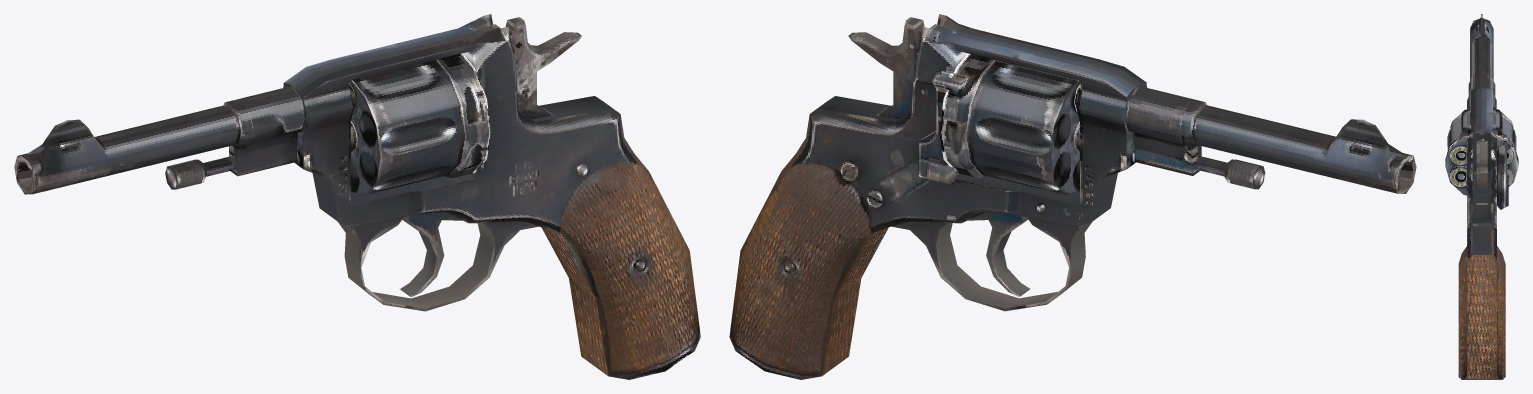
The model's file is nagant.glb.
The picture shows the model from 3 angles, left to right: view 1: azimuth 30°, elevation 25°; view 2: azimuth 150°, elevation 25°; view 3: azimuth 270°, elevation 25°; orthographic projection. The views are drawn at different scales.
Visible parts, largest first — view 1: w_nagant_01 - Default_0, slide_01 - Default_0, hammer_01 - Default_0; view 2: w_nagant_01 - Default_0, slide_01 - Default_0, hammer_01 - Default_0; view 3: w_nagant_01 - Default_0, slide_01 - Default_0, hammer_01 - Default_0.
Boxes of the visible parts, x1,y1,x2,y2 form: w_nagant_01 - Default_0: (14, 14, 700, 379); slide_01 - Default_0: (350, 53, 491, 194); hammer_01 - Default_0: (505, 17, 581, 119); w_nagant_01 - Default_0: (729, 14, 1416, 379); slide_01 - Default_0: (939, 53, 1079, 194); hammer_01 - Default_0: (848, 17, 924, 119); w_nagant_01 - Default_0: (1458, 14, 1511, 379); slide_01 - Default_0: (1445, 108, 1518, 195); hammer_01 - Default_0: (1476, 140, 1487, 204).
Bounding box in the file's own units: 5.37 × 2.93 × 0.9402.
Materials: 1 (1 with a texture image).
